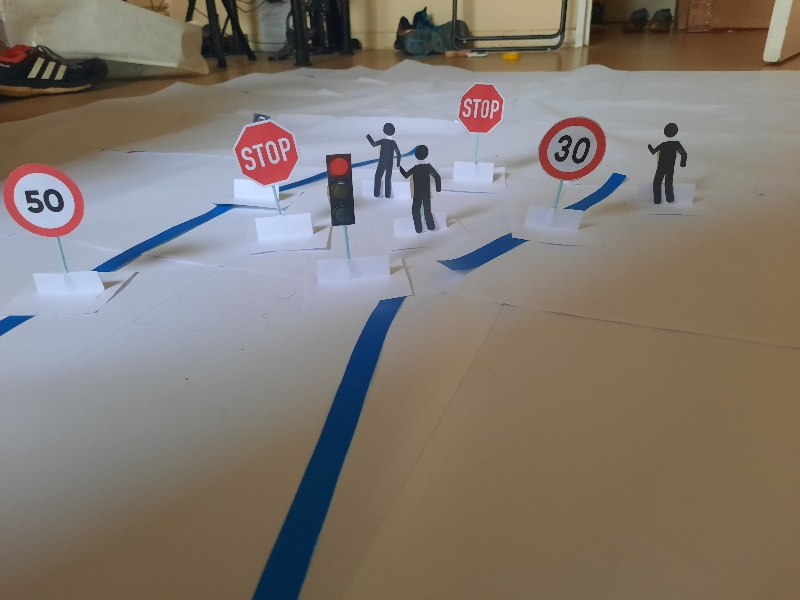Limit 30: (536, 115, 607, 181)
Limit 50: (2, 161, 84, 240)
Person: (400, 142, 443, 230), (645, 119, 687, 208), (363, 122, 403, 199)
Red: (322, 150, 359, 228)
Stop: (231, 120, 303, 185), (456, 81, 504, 136)
